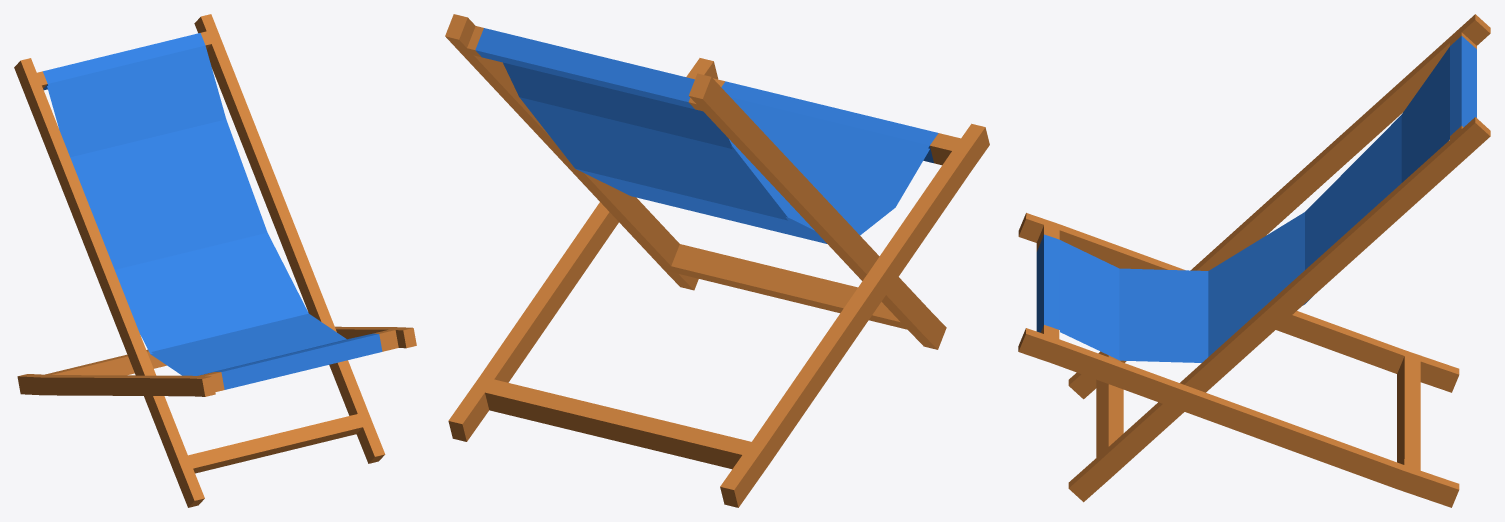
File: Chair.fbx
The picture shows the model from 3 angles, left to right: view 1: azimuth 30°, elevation 25°; view 2: azimuth 150°, elevation 25°; view 3: azimuth 270°, elevation 25°; orthographic projection. The views are drawn at different scales.
Visible parts, largest first — view 1: Chair; view 2: Chair; view 3: Chair.
Part boxes in pixels (<box>): Chair: <box>14,14,416,507</box>; Chair: <box>445,14,989,507</box>; Chair: <box>1018,14,1490,507</box>.
Size of the model in its own units: 0.7783 by 1.14 by 1.28.
